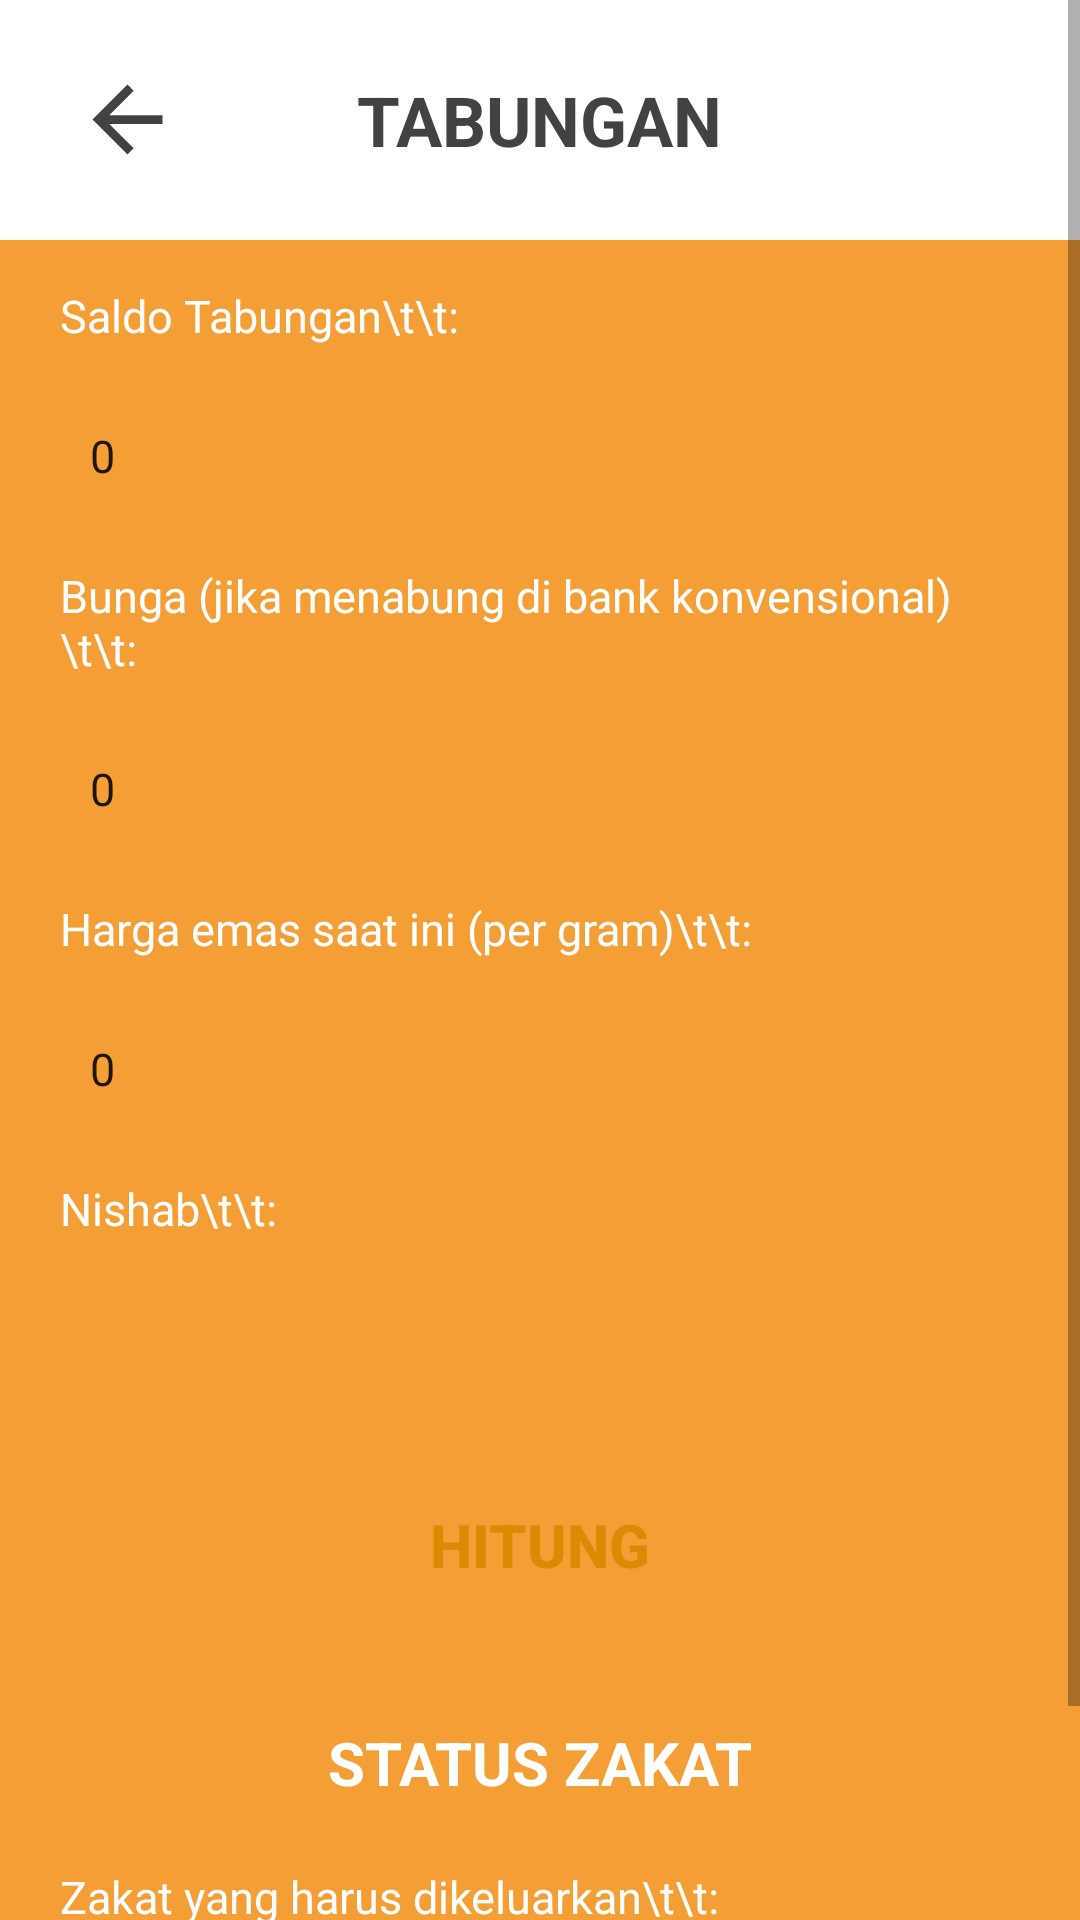

Icons on this 1080px x 1920px Android screen, each with its box as {"left": x1, "top": y1, "right": x2, "bottom": y2}:
kembaliicondark: {"left": 92, "top": 84, "right": 163, "bottom": 155}
